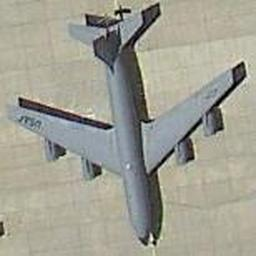Airplane: (0, 4, 249, 252)
